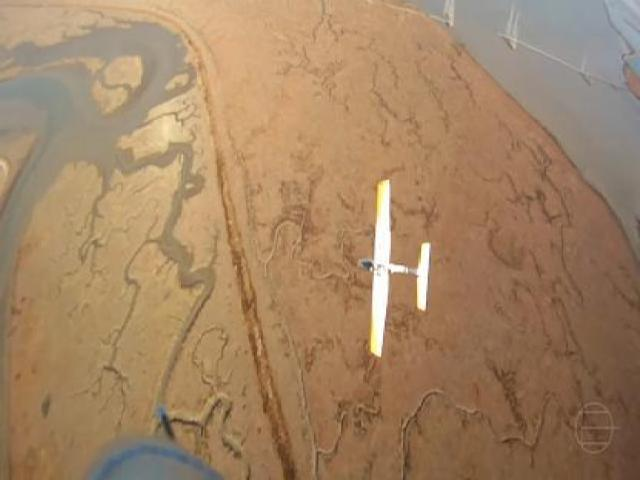uav: (352, 173, 436, 364)
